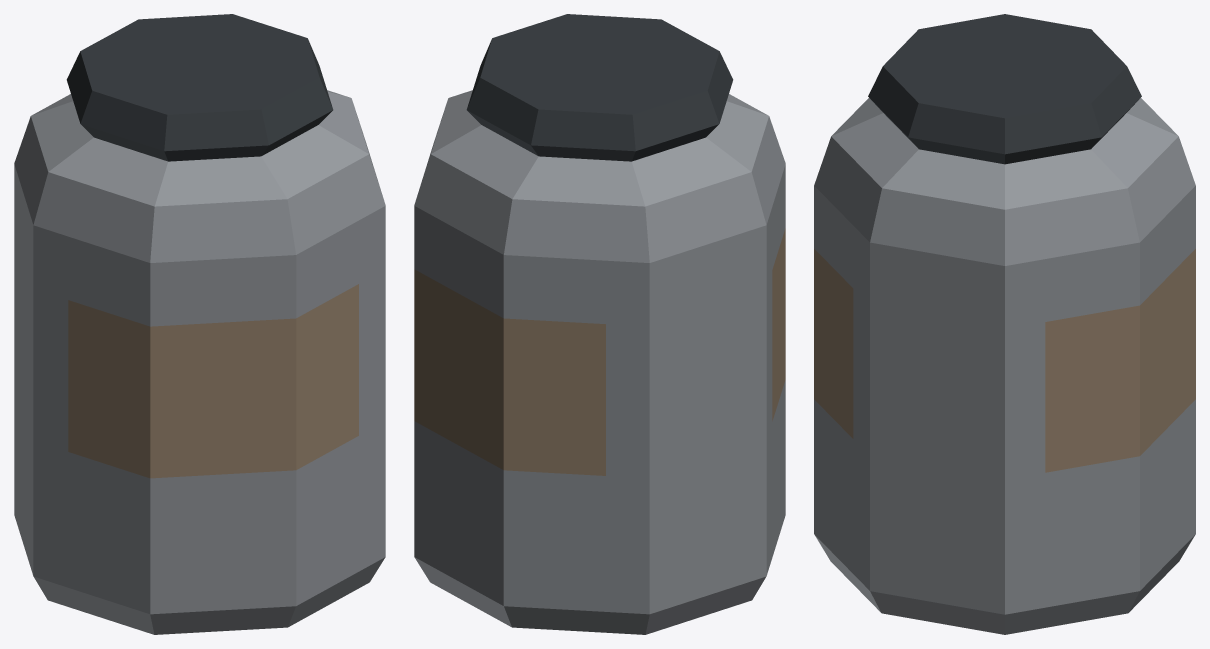
Rendered from SM_Prop_Container_01.glb.
3 renders of one model, left to right at view 1: azimuth 30°, elevation 25°; view 2: azimuth 150°, elevation 25°; view 3: azimuth 270°, elevation 25°, orthographic.
Parts seen in each view (by area): view 1: SM_Prop_Container_01; view 2: SM_Prop_Container_01; view 3: SM_Prop_Container_01.
Boxes of the visible parts, x1,y1,x2,y2 form: SM_Prop_Container_01: [14, 14, 385, 634]; SM_Prop_Container_01: [414, 14, 785, 634]; SM_Prop_Container_01: [814, 14, 1195, 634].
Bounding box in the file's own units: 0.2019 × 0.2888 × 0.2019.
1 material, 1 textured.
